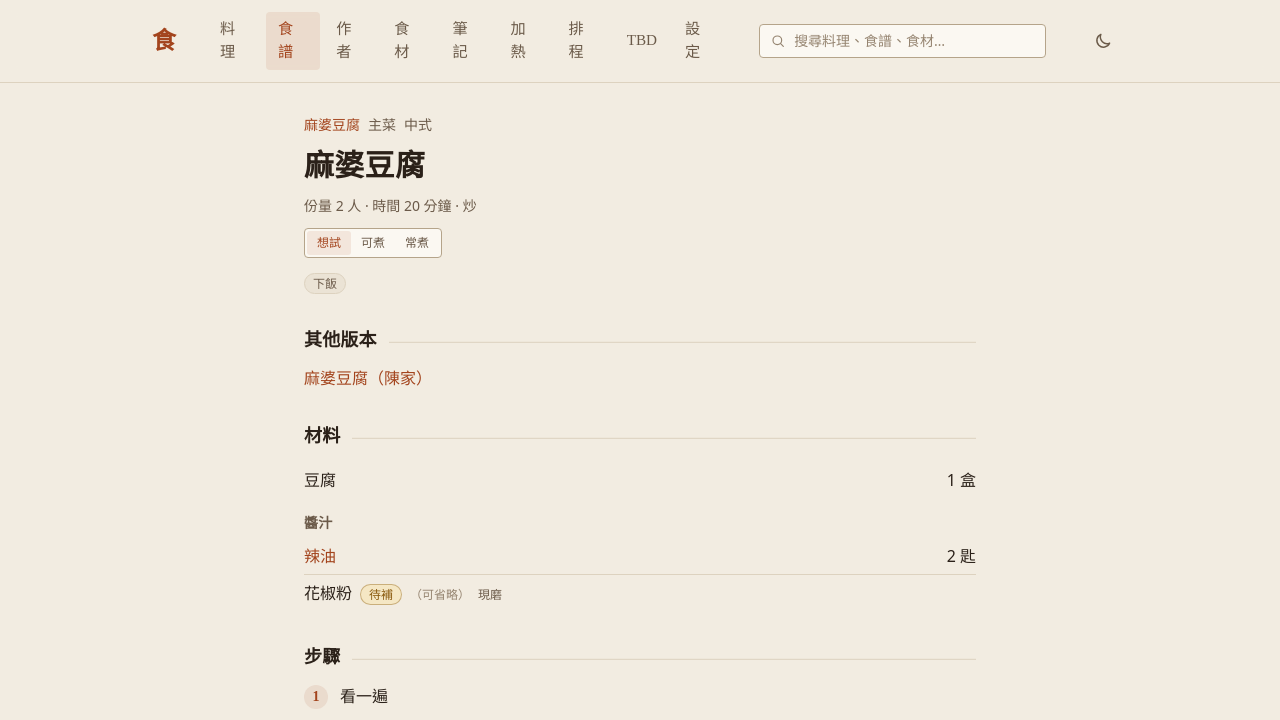
Scenario: the recipe page › says so, and shows the stored status again, when the change fails
Click the button "常煮".
click(417, 243)  # box [395,231,439,255]
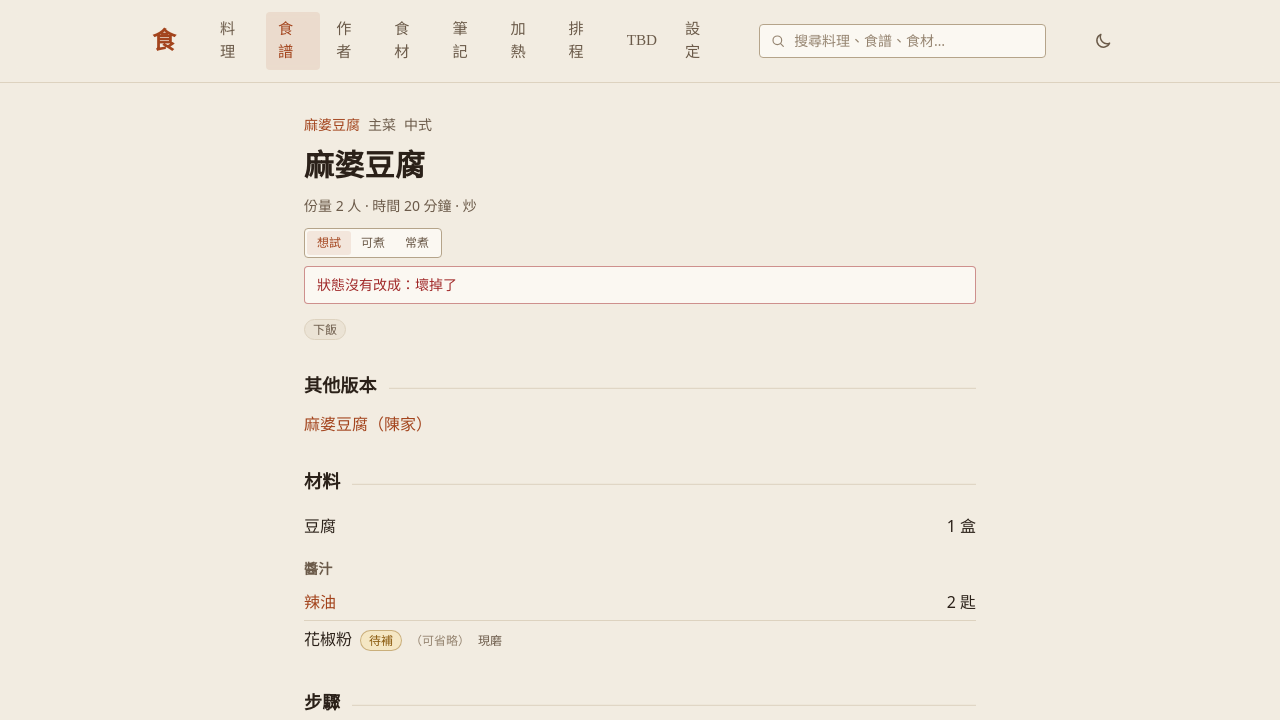
Now the message shows "狀態沒有改成", box [317,275,415,294]
